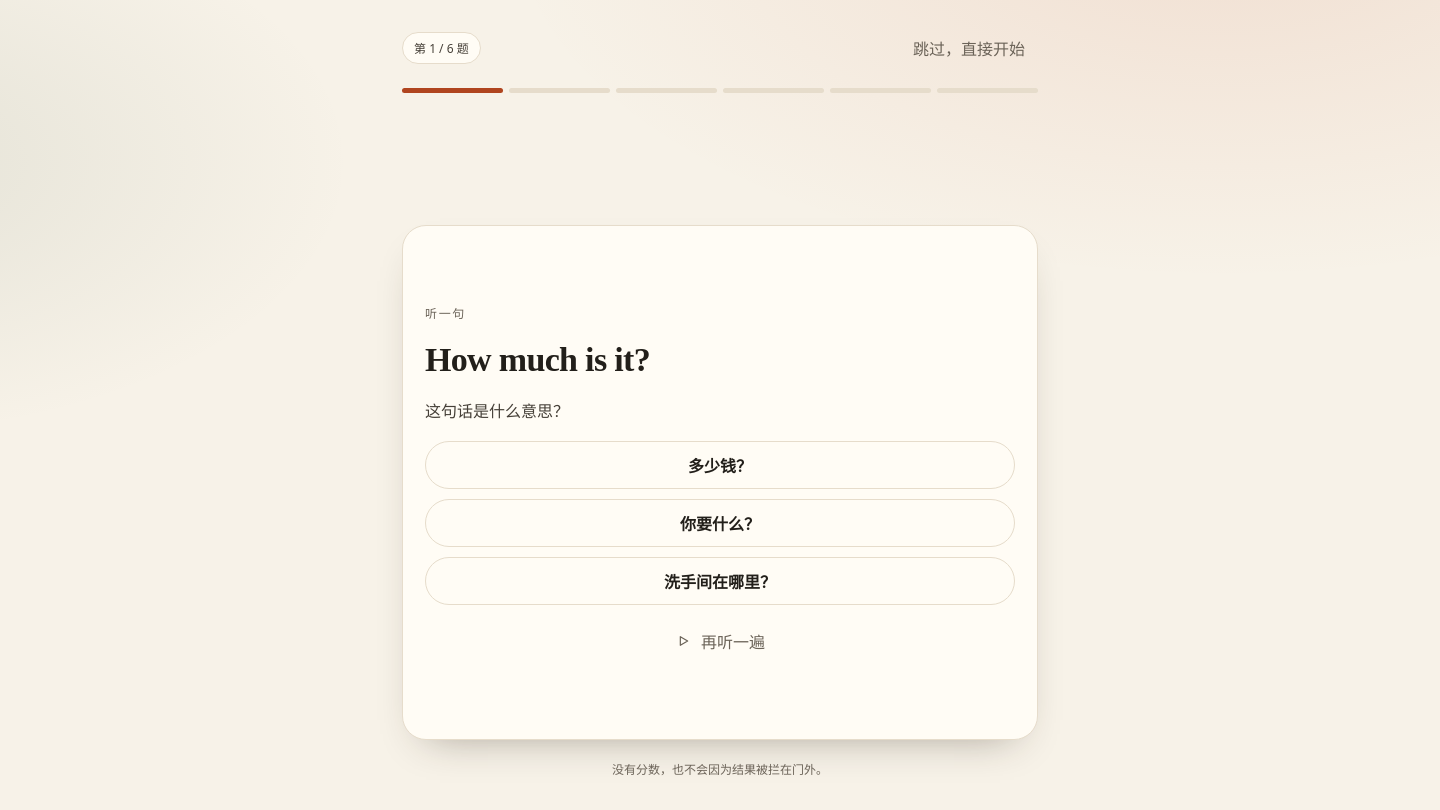
Test case: assessment › lets a beginner skip without being blocked
Click the button "跳过，直接开始" at (969, 48), box [900,28,1038,68]
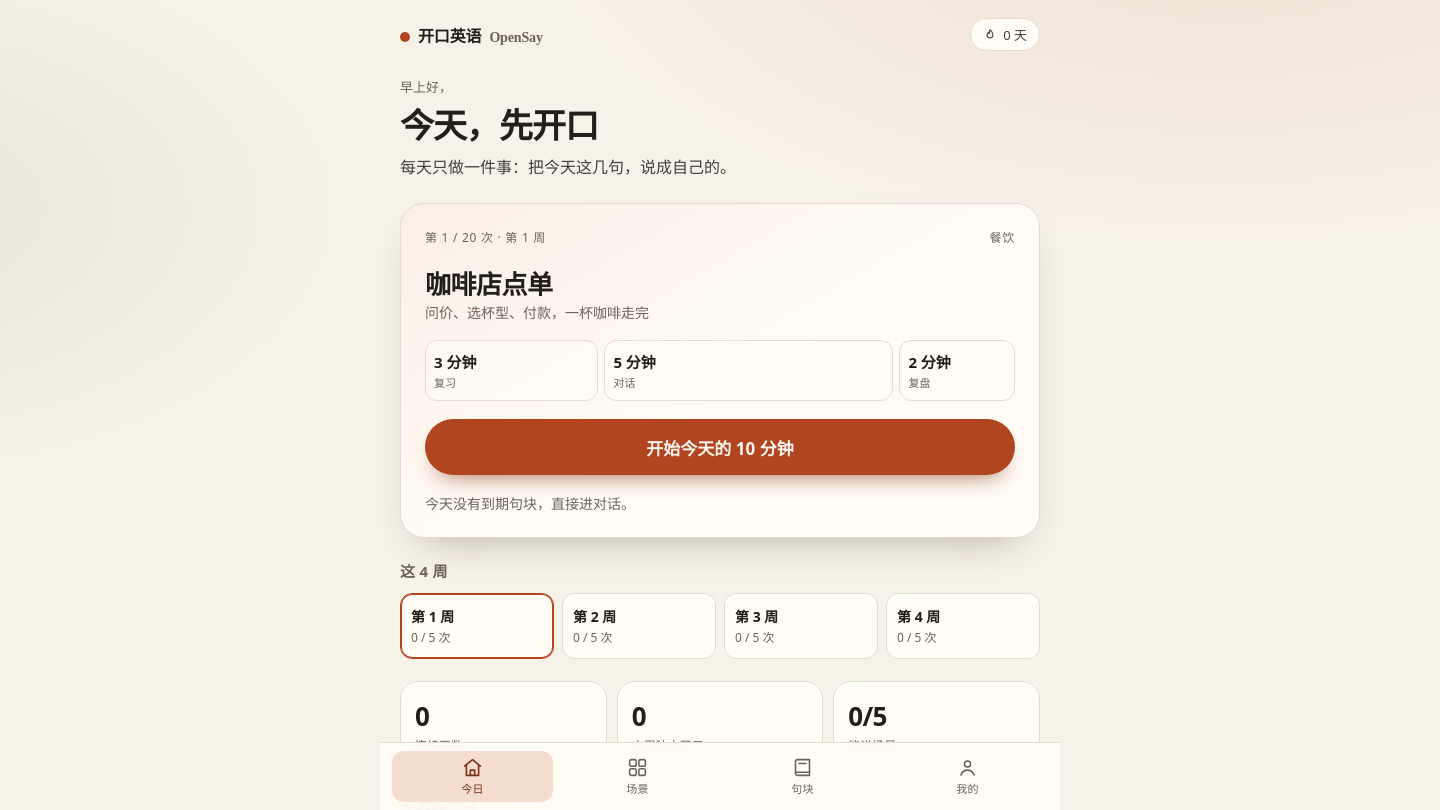
Now the heading "今天，先开口" is shown, box [400,102,598,148]
